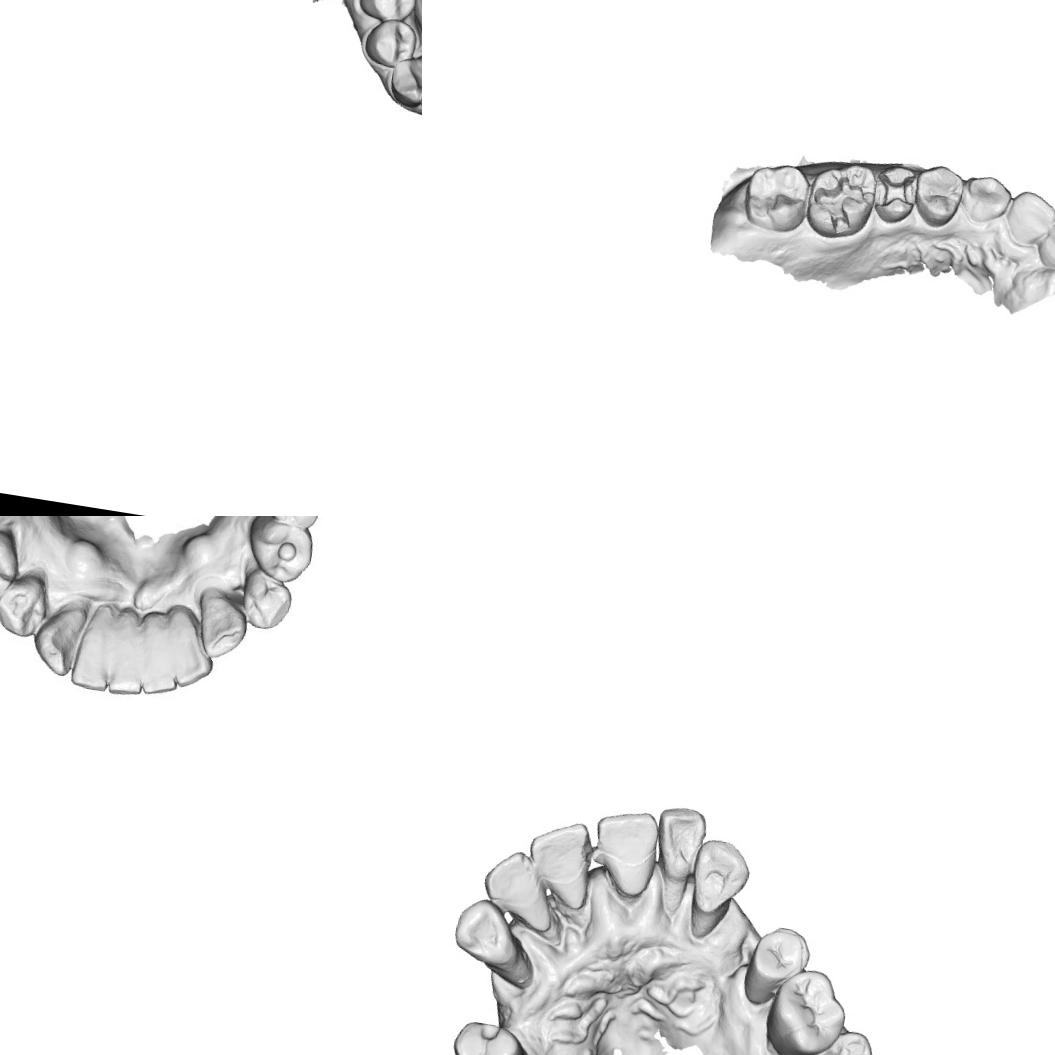canine: (448, 894, 530, 976), (684, 834, 756, 921), (29, 595, 90, 680), (196, 588, 253, 658), (956, 170, 1015, 228), (386, 47, 422, 111)
incisor: (520, 814, 596, 892), (476, 844, 550, 924), (586, 804, 661, 878), (648, 798, 714, 882), (68, 598, 125, 692), (160, 605, 224, 688), (104, 603, 154, 697), (135, 608, 188, 695), (1002, 186, 1055, 251), (1032, 214, 1055, 277)
inlay: (805, 168, 870, 238), (870, 168, 918, 215)
molar: (759, 962, 853, 1055), (738, 156, 819, 238), (794, 1023, 885, 1055)
premolar: (744, 920, 813, 994), (249, 516, 318, 583), (238, 561, 298, 631), (909, 160, 967, 232), (444, 1013, 529, 1055), (0, 571, 53, 638), (364, 15, 420, 73), (356, 0, 421, 26), (0, 530, 23, 597)
